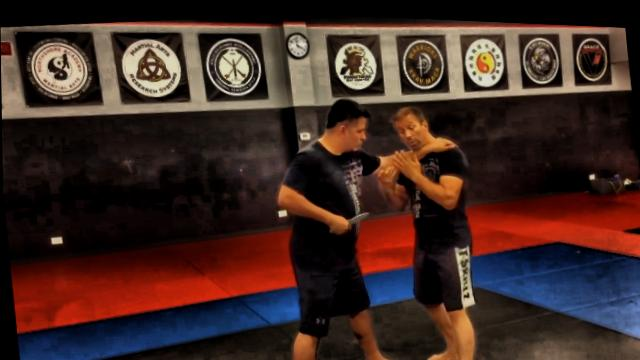knife: (324, 203, 372, 233)
